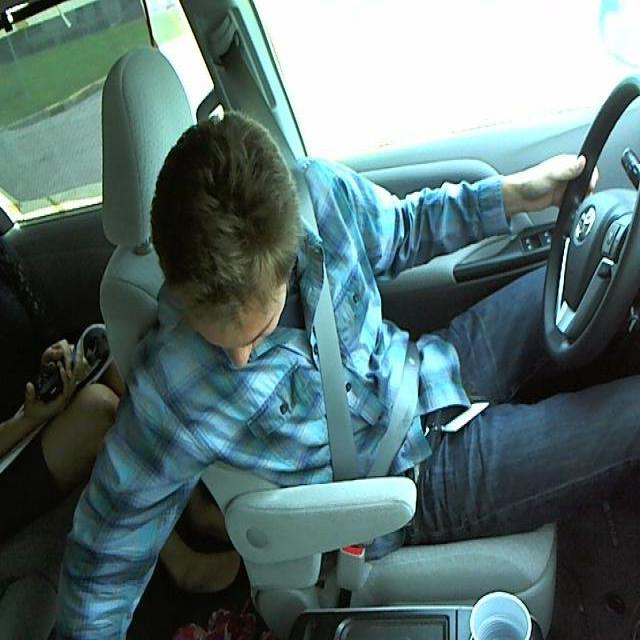seatbelt: (275, 211, 433, 489)
